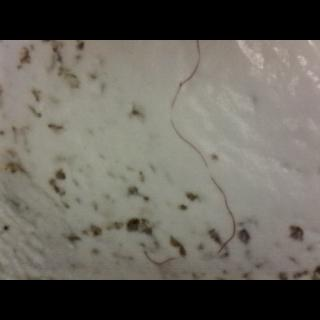Microplastic: (198, 172, 246, 254), (164, 42, 218, 108), (168, 115, 218, 167), (138, 244, 178, 266)
